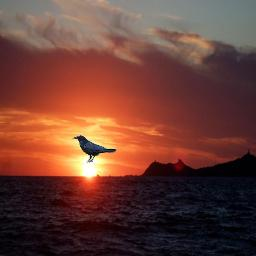Crow: (72, 135, 117, 163)
